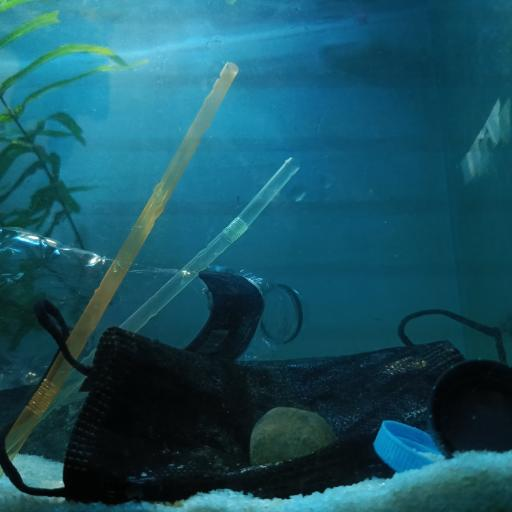bottle_cap: (430, 360, 512, 457), (377, 418, 440, 468)
mask: (0, 301, 512, 503)
plastic_bottle: (1, 222, 308, 389)
plastic_straw: (1, 63, 237, 457), (0, 155, 299, 452)
